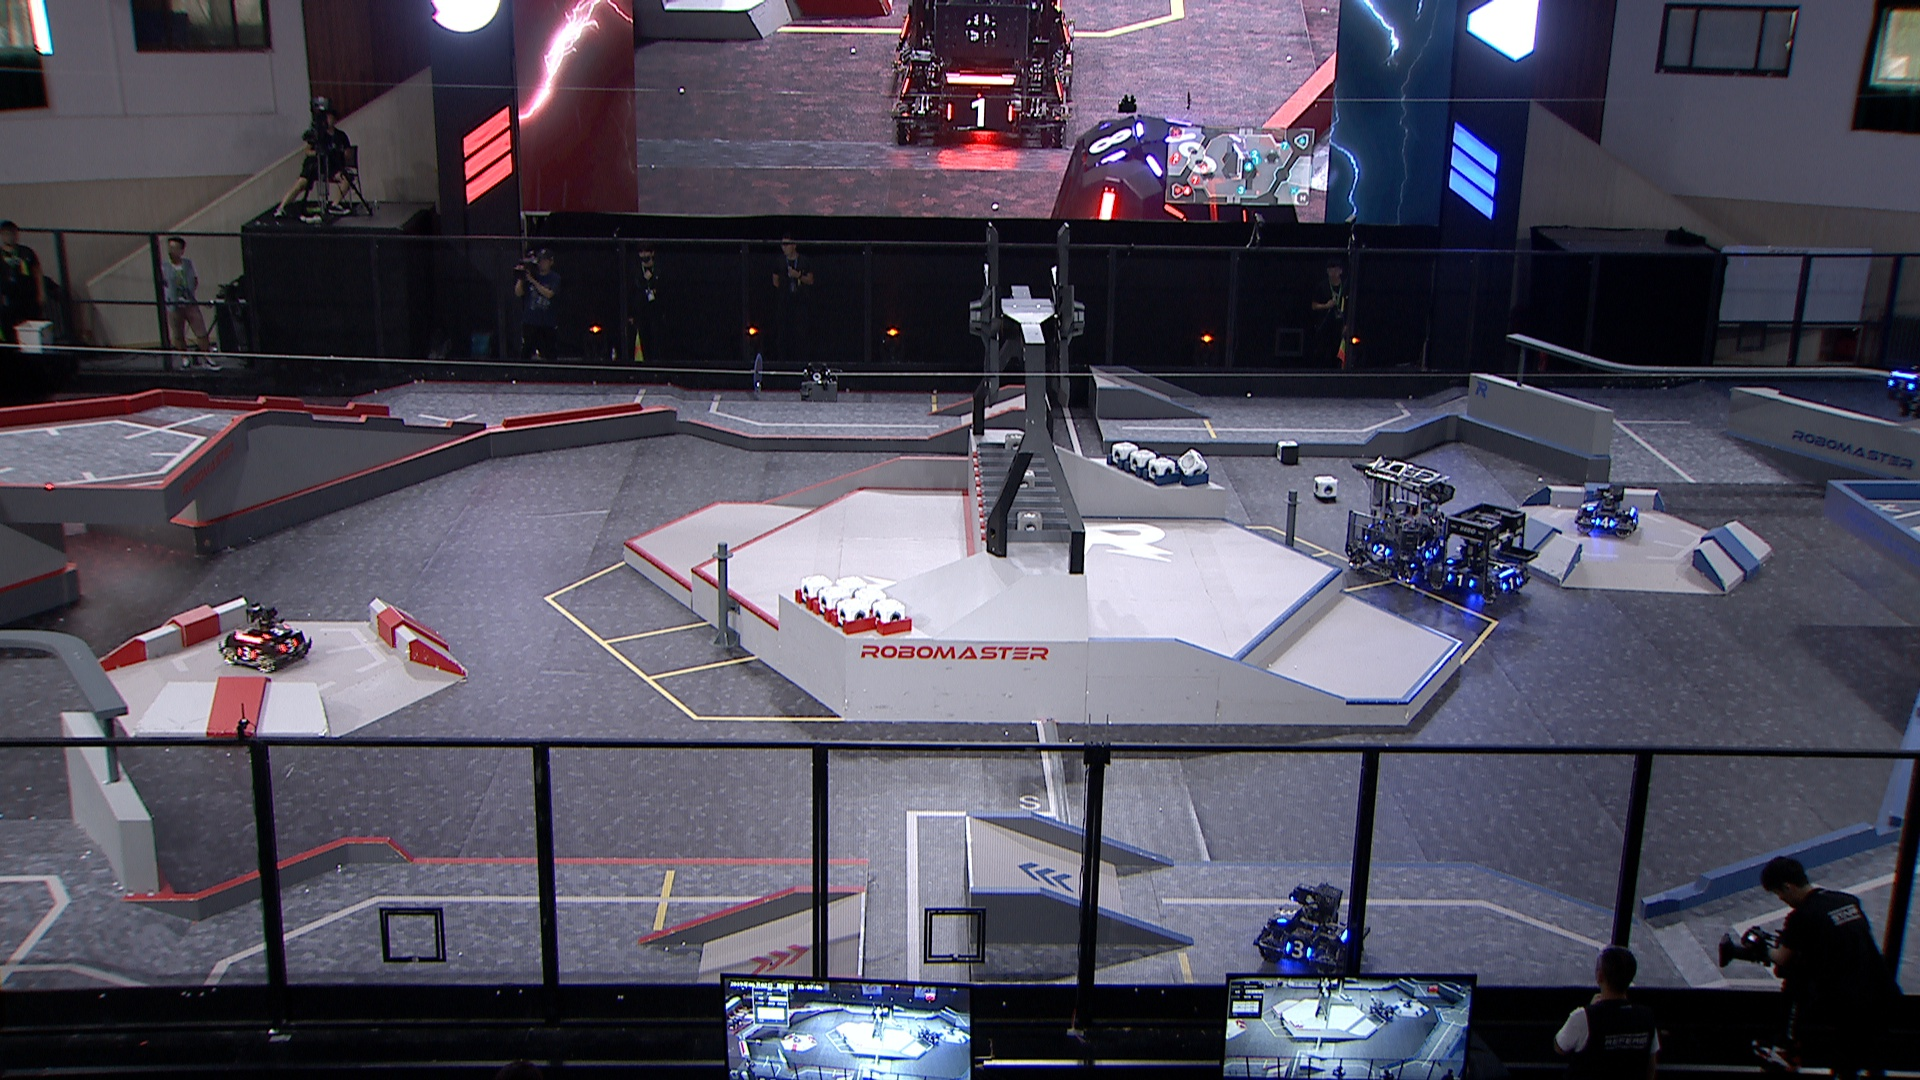armor: (1283, 940, 1315, 960), (1444, 571, 1476, 589), (261, 622, 291, 640), (1275, 906, 1298, 927), (1884, 378, 1917, 392), (278, 636, 299, 655), (235, 645, 258, 661), (1371, 542, 1391, 560), (1501, 576, 1523, 591), (1593, 517, 1617, 529), (1423, 547, 1439, 564), (1584, 500, 1598, 512)
car: (1342, 454, 1458, 583), (1249, 880, 1367, 977), (1425, 504, 1534, 604), (218, 603, 313, 675), (1572, 481, 1638, 542)
ignore: (1048, 111, 1299, 225), (894, 0, 1076, 150)
watcher: (1883, 367, 1920, 419)
